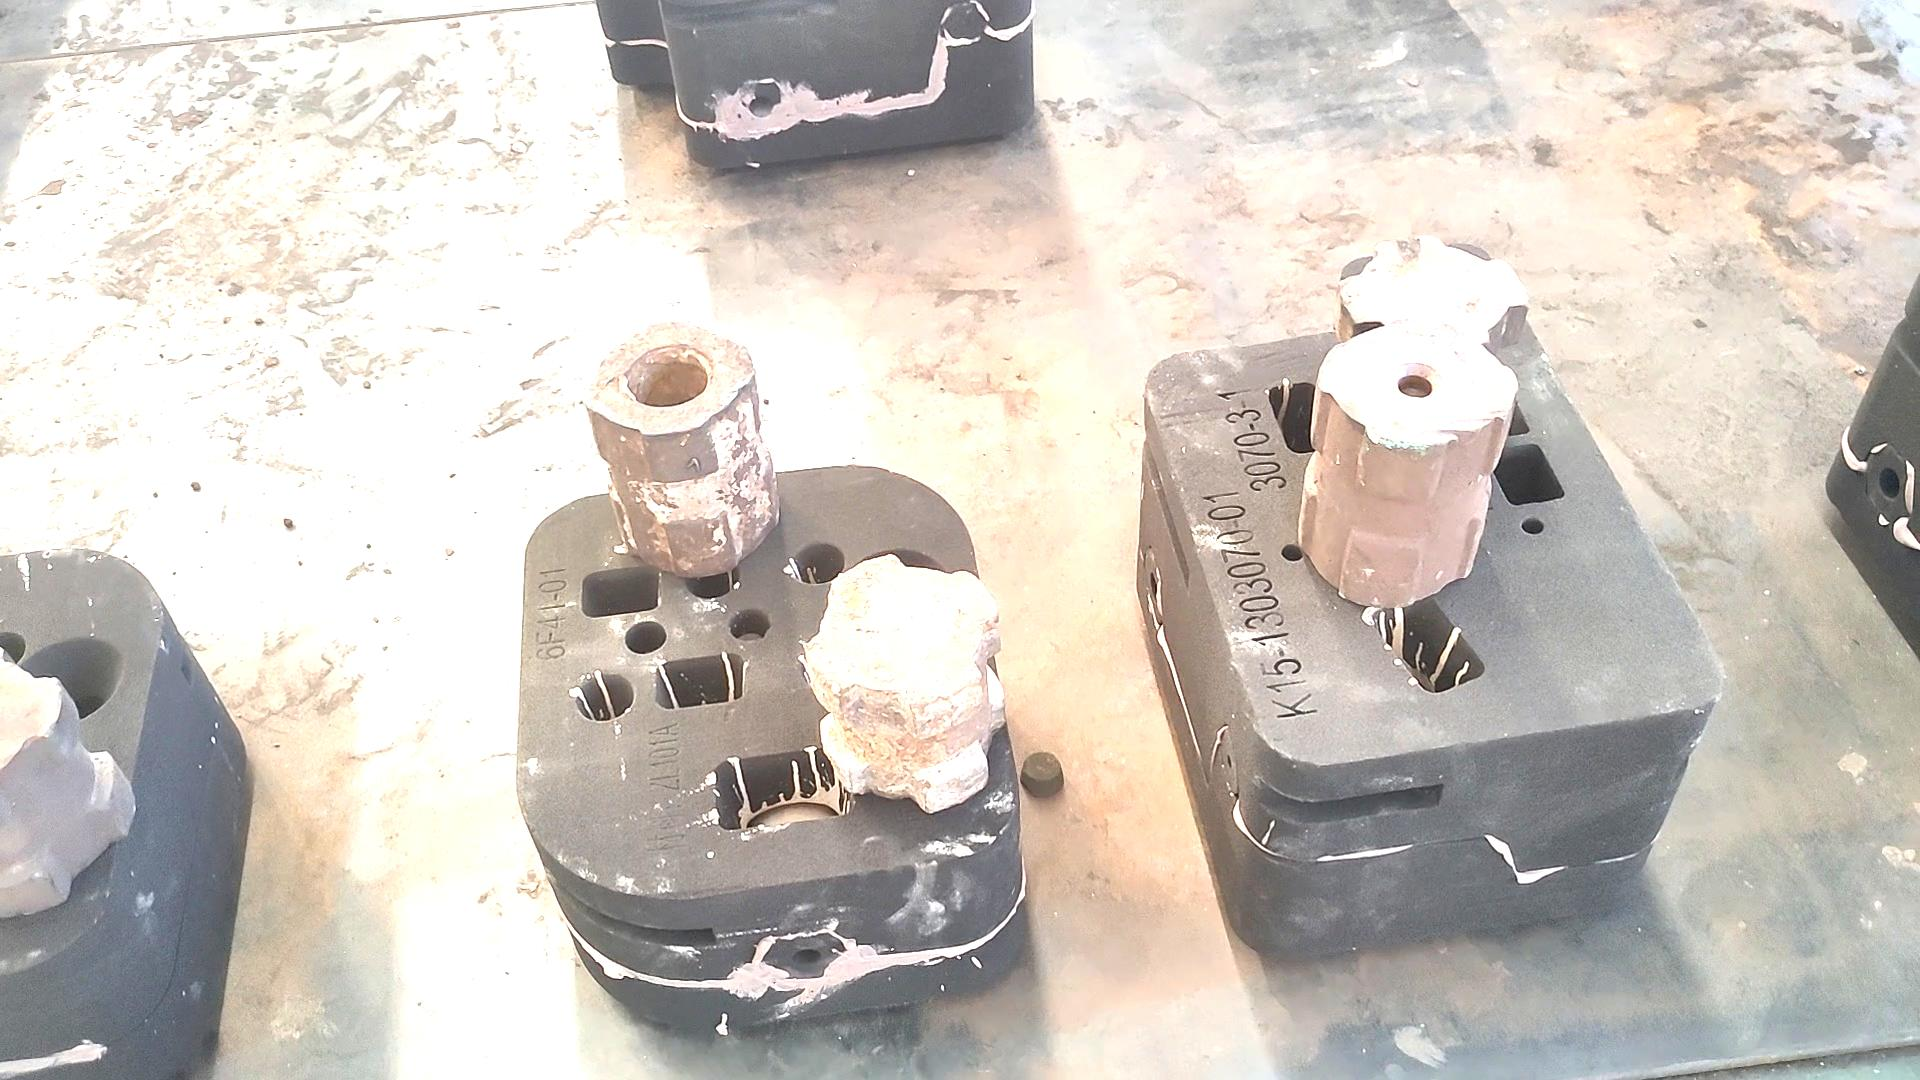pouring hole: (9, 634, 124, 723), (839, 547, 952, 622), (1378, 256, 1480, 323)
